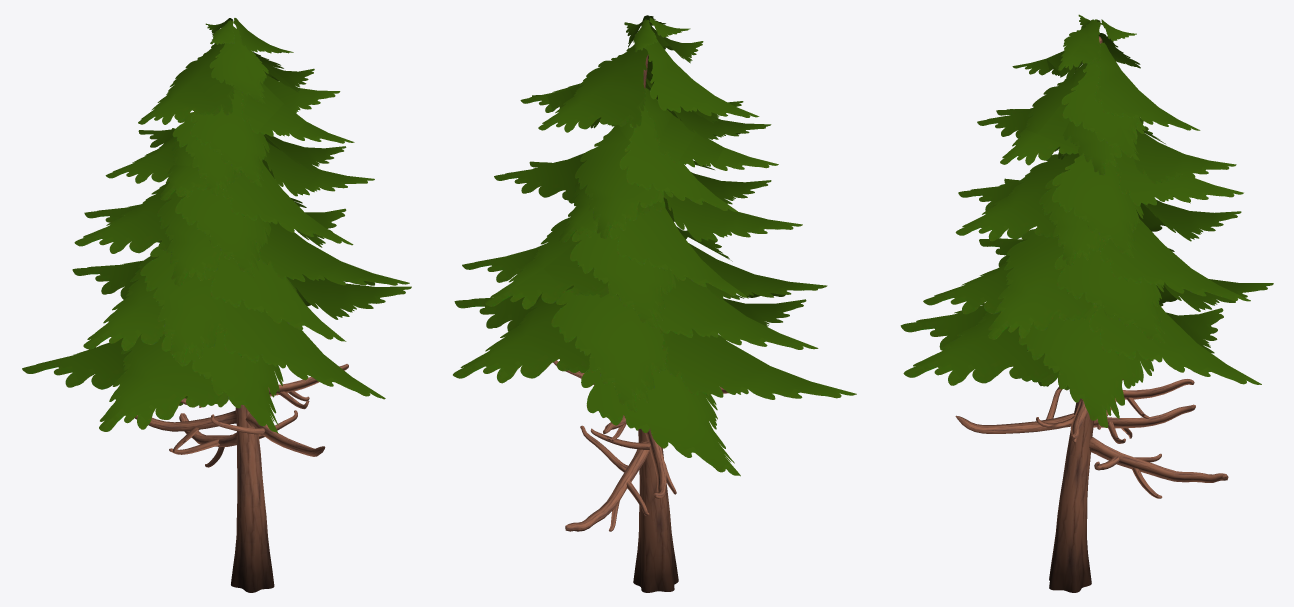
File: Pine_1.glb
3 renders of one model, left to right at view 1: azimuth 30°, elevation 25°; view 2: azimuth 150°, elevation 25°; view 3: azimuth 270°, elevation 25°, orthographic. The views are drawn at different scales.
Visible parts, largest first — view 1: Pine_1; view 2: Pine_1; view 3: Pine_1.
Boxes of the visible parts, x1,y1,x2,y2 form: Pine_1: (22, 18, 411, 592); Pine_1: (453, 15, 856, 592); Pine_1: (900, 14, 1273, 592).
Bounding box in the file's own units: 4.94 × 7.32 × 4.54.
2 materials, 2 textured.
